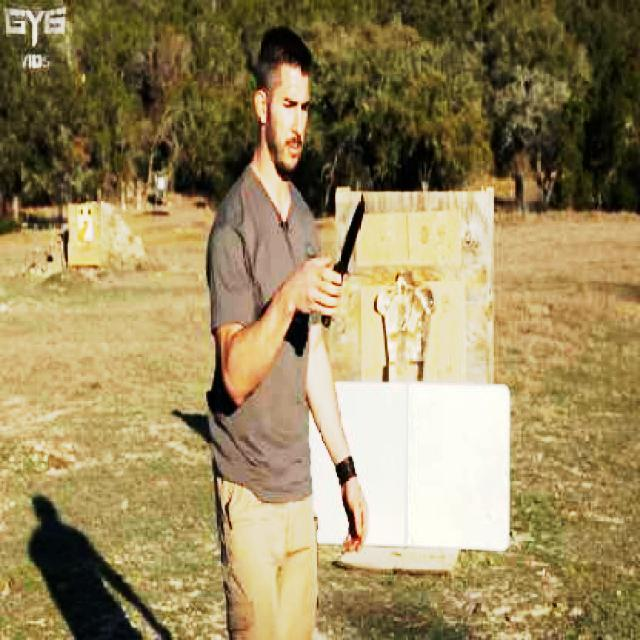Knife: (334, 190, 392, 277)
